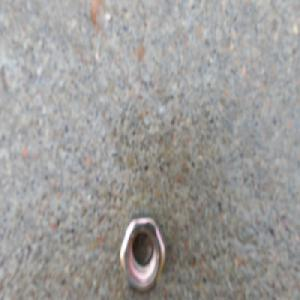Nut: (116, 212, 167, 296)
